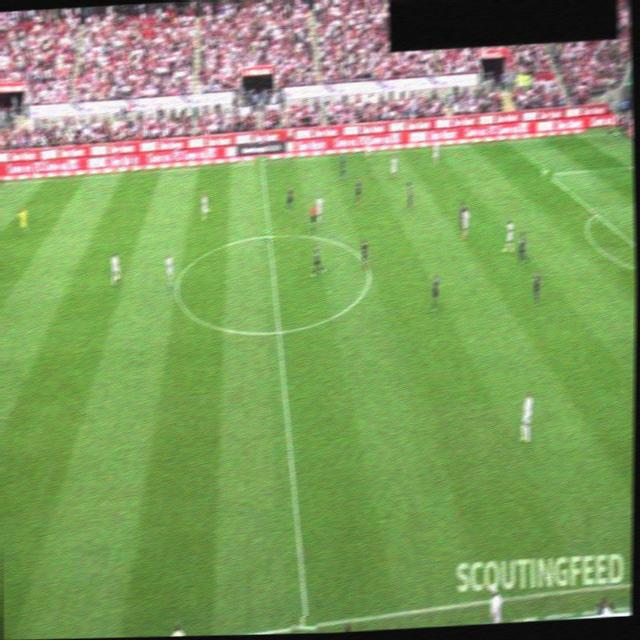bigarea_top_inner: (541, 167, 554, 179)
corner: (606, 126, 619, 138)
halfcircle_bottom: (270, 324, 286, 337)
halfcircle_top: (261, 228, 277, 243)
midline_bottom_intersection: (290, 615, 320, 633)
midline_top_intersection: (254, 156, 268, 168)
top_arc_area_intersection: (587, 205, 604, 223)
